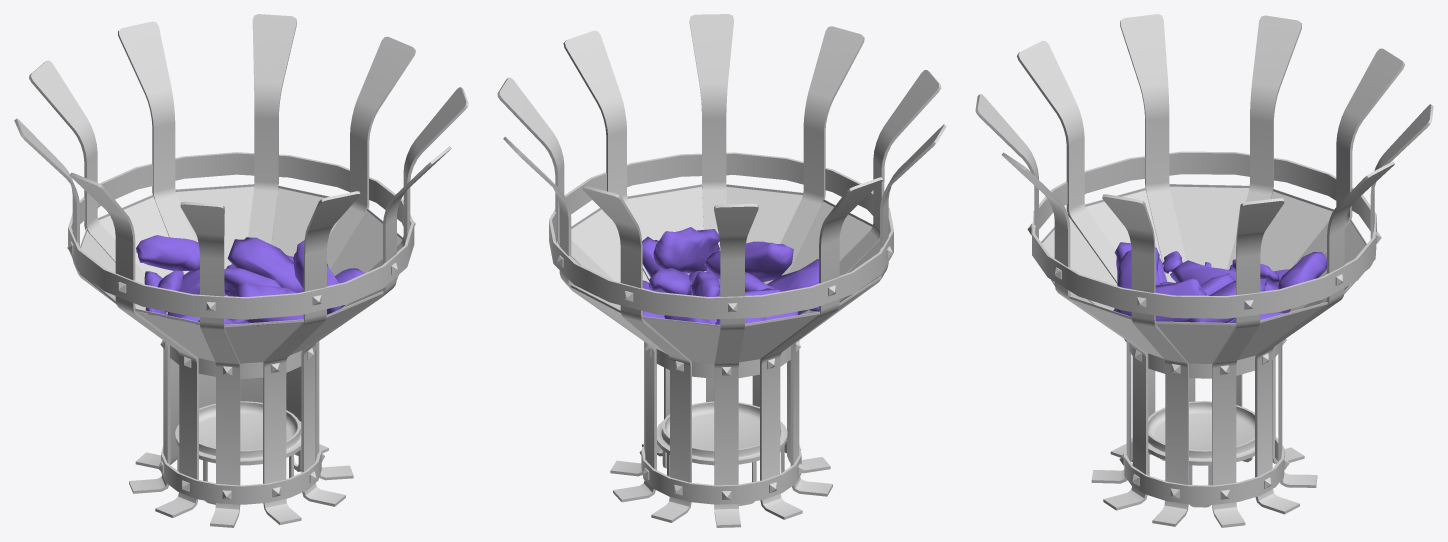
Rendered from Brasero_01.fbx.
The picture shows the model from 3 angles, left to right: view 1: azimuth 30°, elevation 25°; view 2: azimuth 150°, elevation 25°; view 3: azimuth 270°, elevation 25°; orthographic projection.
Parts seen in each view (by area): view 1: Cylinder.002, Cylinder.004, Plane; view 2: Cylinder.002, Cylinder.004, Plane; view 3: Cylinder.002, Cylinder.004, Plane.
Boxes of the visible parts, x1,y1,x2,y2 form: Cylinder.002: (14,14,468,527); Cylinder.004: (80,186,402,363); Plane: (136,235,364,327); Cylinder.002: (497,14,946,527); Cylinder.004: (558,186,886,364); Plane: (642,227,818,324); Cylinder.002: (975,14,1433,527); Cylinder.004: (1042,186,1365,363); Plane: (1113,242,1326,347).
Size of the model in its own units: 77.78 by 71.25 by 79.31.
